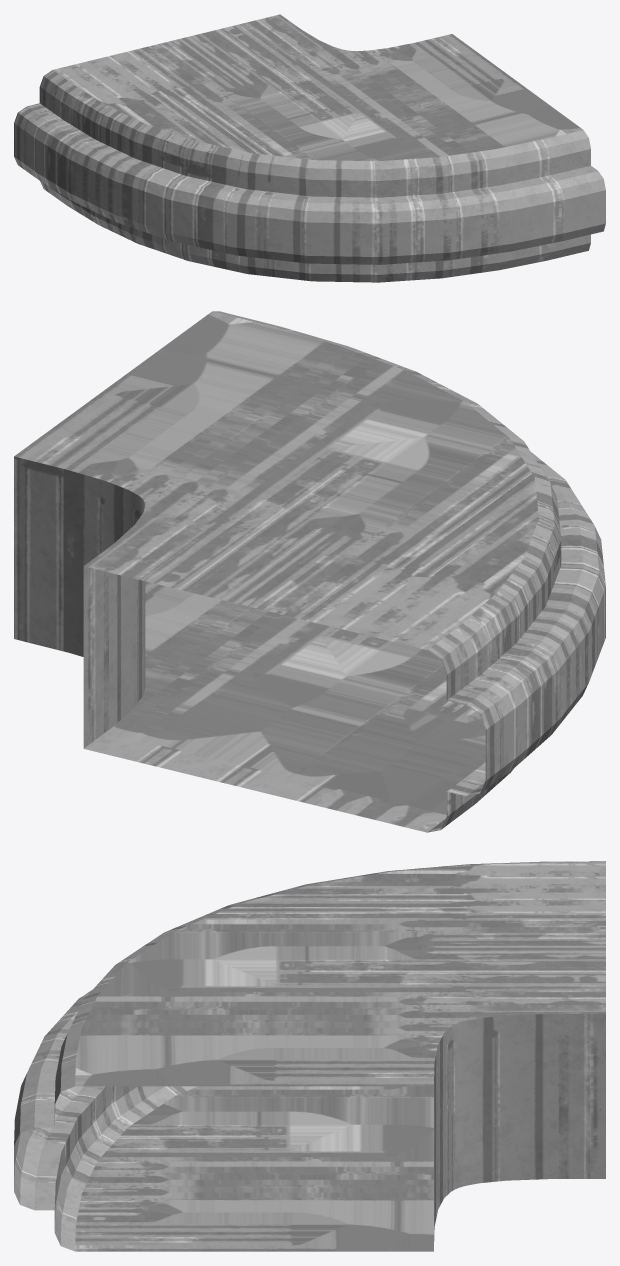
Rendered from SM_Trimcorner2.fbx.
3 views of the same model, one above another, from view 1: azimuth 30°, elevation 25°; view 2: azimuth 150°, elevation 25°; view 3: azimuth 270°, elevation 25° (orthographic). The views are drawn at different scales.
Visible parts, largest first — view 1: SM_Trimcorner2_LOD0; view 2: SM_Trimcorner2_LOD0; view 3: SM_Trimcorner2_LOD0.
Boxes of the visible parts, box(x1,y1,x2,y2) form: SM_Trimcorner2_LOD0: box(14, 14, 605, 282); SM_Trimcorner2_LOD0: box(14, 311, 605, 832); SM_Trimcorner2_LOD0: box(14, 861, 605, 1251).
Size of the model in its own units: 172 by 172 by 52.93.
